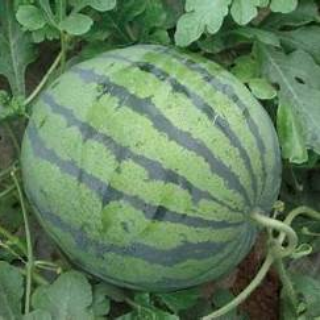dua_hau: (13, 44, 286, 292)
